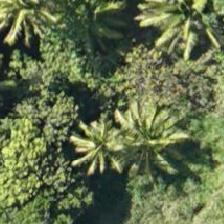coconut_tree: (103, 90, 193, 180), (55, 101, 145, 191), (142, 0, 223, 58)
